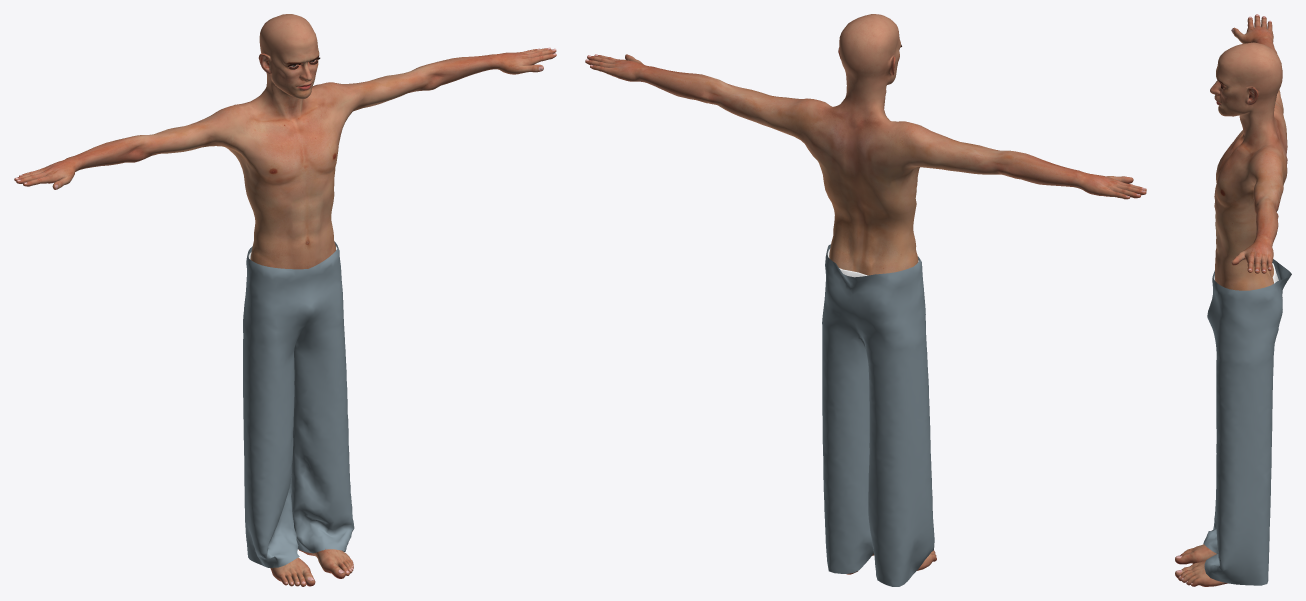
The picture shows the model from 3 angles, left to right: view 1: azimuth 30°, elevation 25°; view 2: azimuth 150°, elevation 25°; view 3: azimuth 270°, elevation 25°; orthographic projection. The views are drawn at different scales.
Visible parts, largest first — view 1: CC_Base_Body, Pattern2D_8668, Pattern2D_8669, Pattern2D_8670, Pattern2D_8671; view 2: CC_Base_Body, Pattern2D_8671, Pattern2D_8670, Pattern2D_8668; view 3: CC_Base_Body, Pattern2D_8669, Pattern2D_8670, Pattern2D_8668, Pattern2D_8671.
Boxes of the visible parts, x1,y1,x2,y2 form: CC_Base_Body: (14, 14, 556, 586); Pattern2D_8668: (243, 259, 310, 567); Pattern2D_8669: (294, 241, 354, 553); Pattern2D_8670: (291, 351, 310, 552); Pattern2D_8671: (243, 246, 296, 561); CC_Base_Body: (585, 14, 1146, 574); Pattern2D_8671: (847, 267, 914, 586); Pattern2D_8670: (822, 246, 873, 573); Pattern2D_8668: (907, 256, 934, 580); CC_Base_Body: (1175, 14, 1287, 586); Pattern2D_8669: (1204, 277, 1252, 585); Pattern2D_8670: (1248, 276, 1290, 585); Pattern2D_8668: (1203, 270, 1218, 553); Pattern2D_8671: (1272, 259, 1291, 297).
Bounding box in the file's own units: 1.84 × 1.76 × 0.3532.
18 materials, 13 textured.
